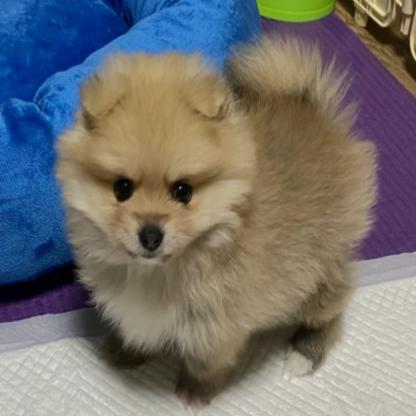dog: (49, 29, 370, 404)
